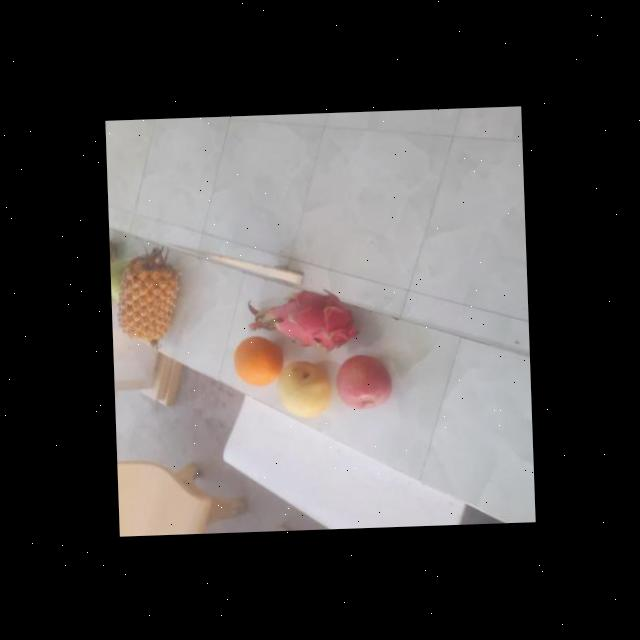apple: (334, 352, 393, 412)
orange: (232, 334, 284, 389)
pear: (275, 356, 332, 419)
pineapple: (112, 254, 182, 340)
pitaya: (260, 285, 359, 358)
